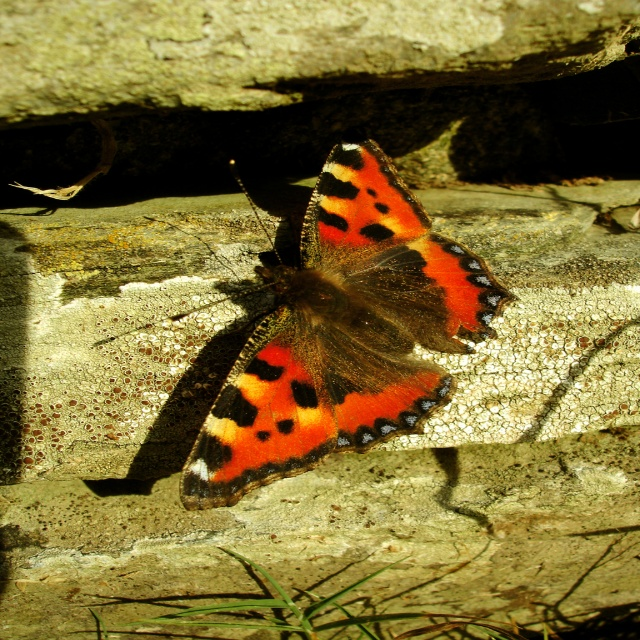Butterfly: (173, 140, 506, 506)
